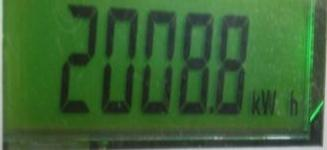.: (251, 90, 300, 120)
0: (207, 105, 216, 114)
1: (101, 7, 141, 115), (141, 10, 175, 116)
3: (57, 4, 101, 114)
9: (178, 12, 214, 115), (217, 14, 249, 115)
